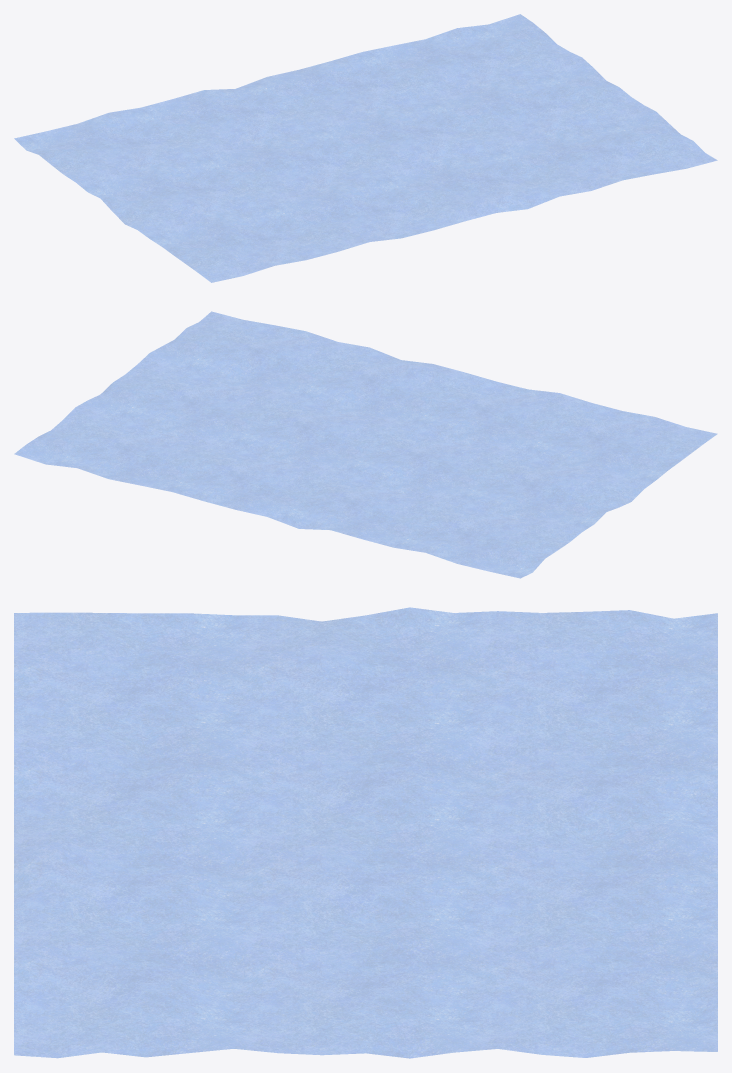
File: water.gltf
3 renders of one model, top to bottom at view 1: azimuth 30°, elevation 25°; view 2: azimuth 150°, elevation 25°; view 3: azimuth 270°, elevation 25°, orthographic. The views are drawn at different scales.
Parts seen in each view (by area): view 1: Plane; view 2: Plane; view 3: Plane.
Boxes of the visible parts, x1=… form: Plane: x1=14, y1=14, x2=717, y2=282; Plane: x1=15, y1=311, x2=716, y2=578; Plane: x1=14, y1=607, x2=717, y2=1058.
Bounding box in the file's own units: 44.88 × 0.9639 × 30.31.
1 material, 1 textured.
